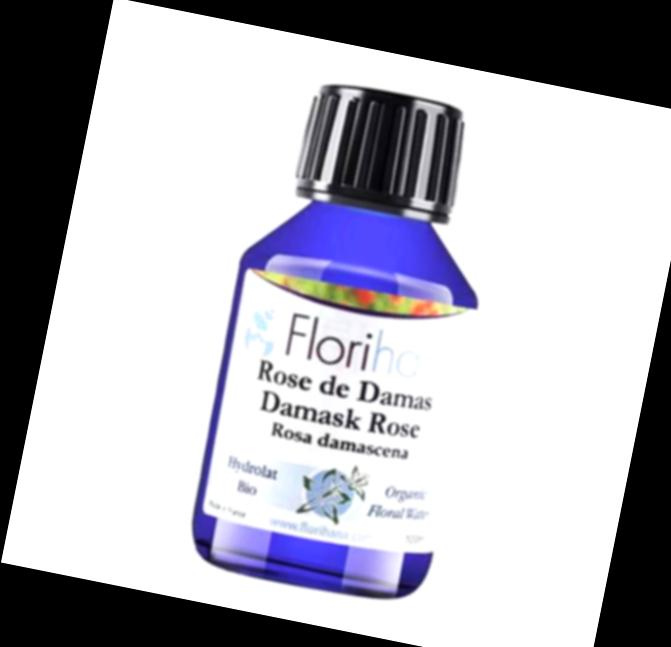cosmetic: (176, 66, 521, 607)
